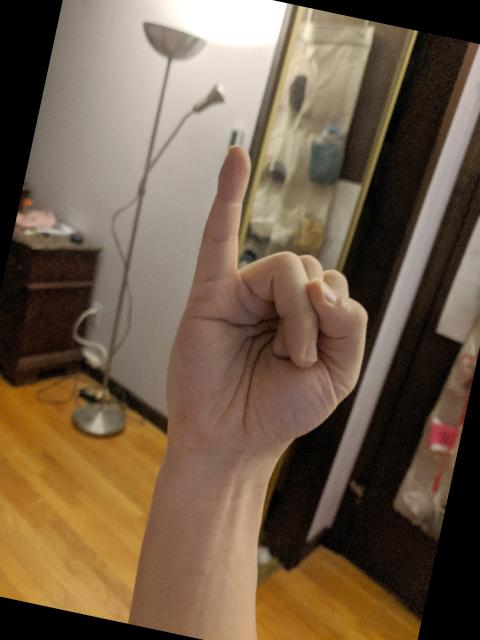I: (146, 132, 410, 494)
